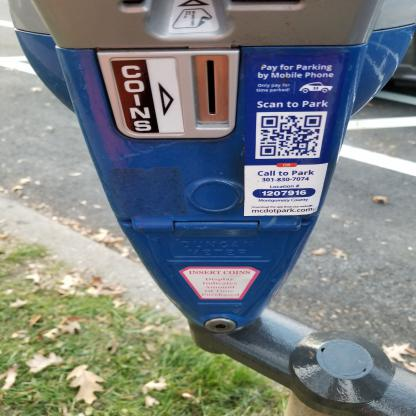qr: (260, 112, 324, 157)
